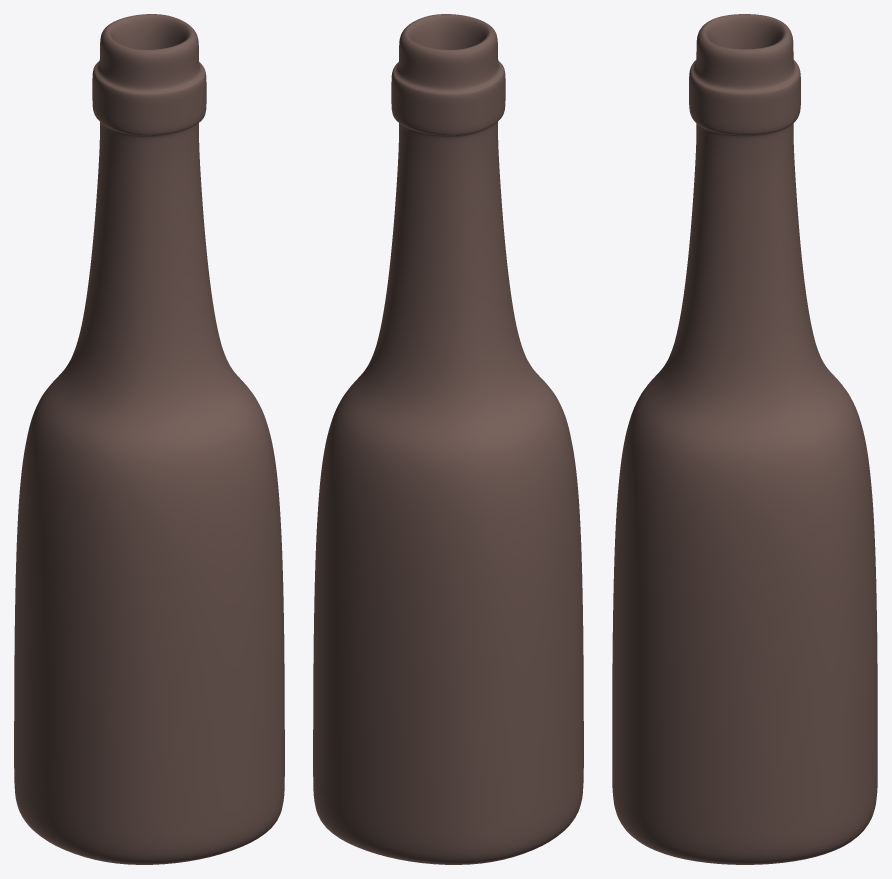
File: Bottle.fbx
The picture shows the model from 3 angles, left to right: view 1: azimuth 30°, elevation 25°; view 2: azimuth 150°, elevation 25°; view 3: azimuth 270°, elevation 25°; orthographic projection.
Parts seen in each view (by area): view 1: Bottle; view 2: Bottle; view 3: Bottle.
Boxes of the visible parts, x1=… form: Bottle: x1=14, y1=14, x2=284, y2=864; Bottle: x1=313, y1=14, x2=583, y2=864; Bottle: x1=612, y1=14, x2=877, y2=864.
Size of the model in its own units: 183 by 597 by 183.
